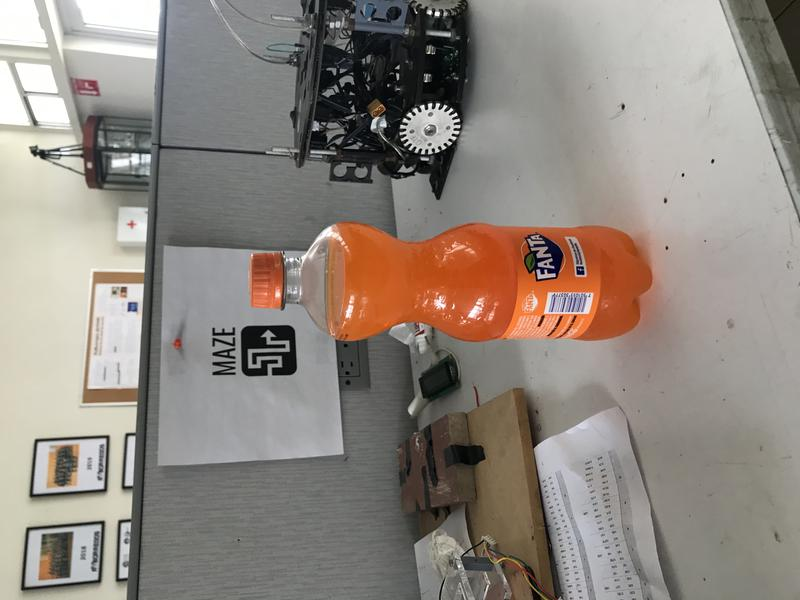fanta: (247, 222, 654, 344)
